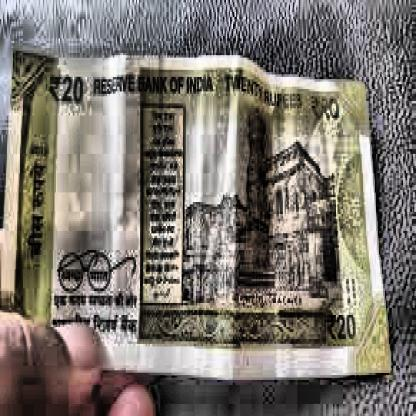Rs20: (44, 68, 89, 107), (324, 307, 359, 348)
